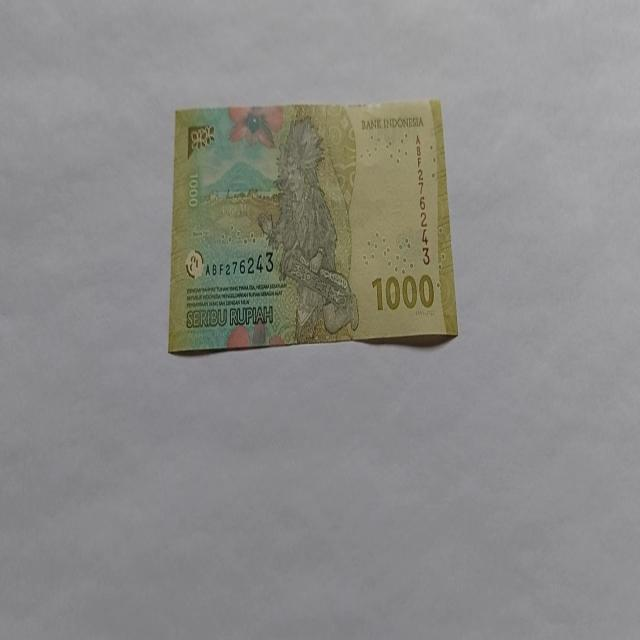seribu rupiah kertas: (168, 98, 458, 354)
